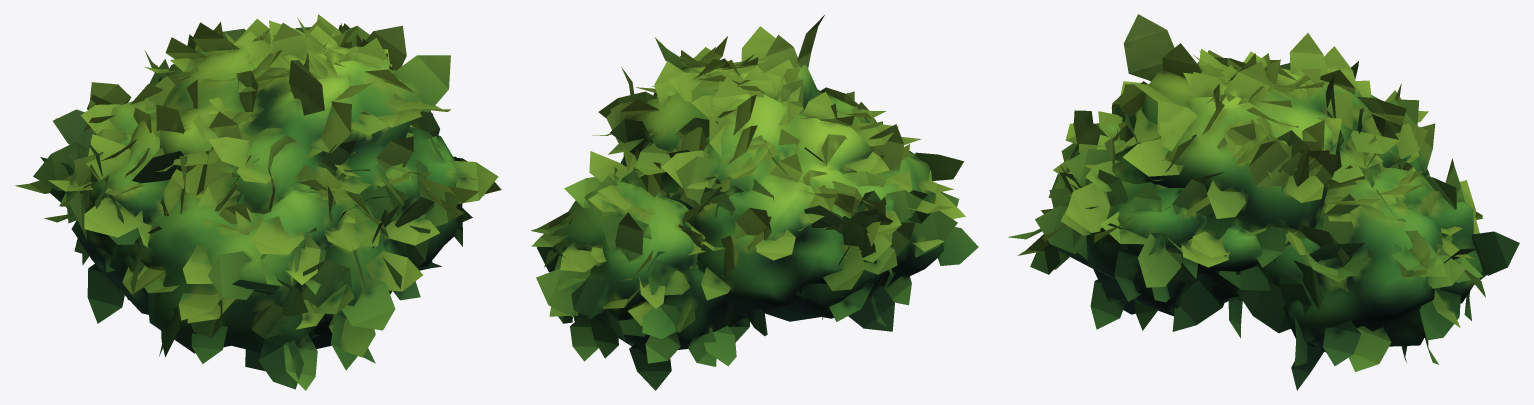
Rendered from berry_bush_picked.glb.
3 renders of one model, left to right at view 1: azimuth 30°, elevation 25°; view 2: azimuth 150°, elevation 25°; view 3: azimuth 270°, elevation 25°, orthographic. The views are drawn at different scales.
Parts seen in each view (by area): view 1: berry_bush_picked; view 2: berry_bush_picked; view 3: berry_bush_picked.
Part boxes in pixels (bbox=[...]): berry_bush_picked: bbox=[15, 14, 501, 390]; berry_bush_picked: bbox=[531, 15, 978, 390]; berry_bush_picked: bbox=[1008, 14, 1519, 390].
Bounding box in the file's own units: 1.77 × 1.47 × 2.1.
Materials: 1 (1 with a texture image).
